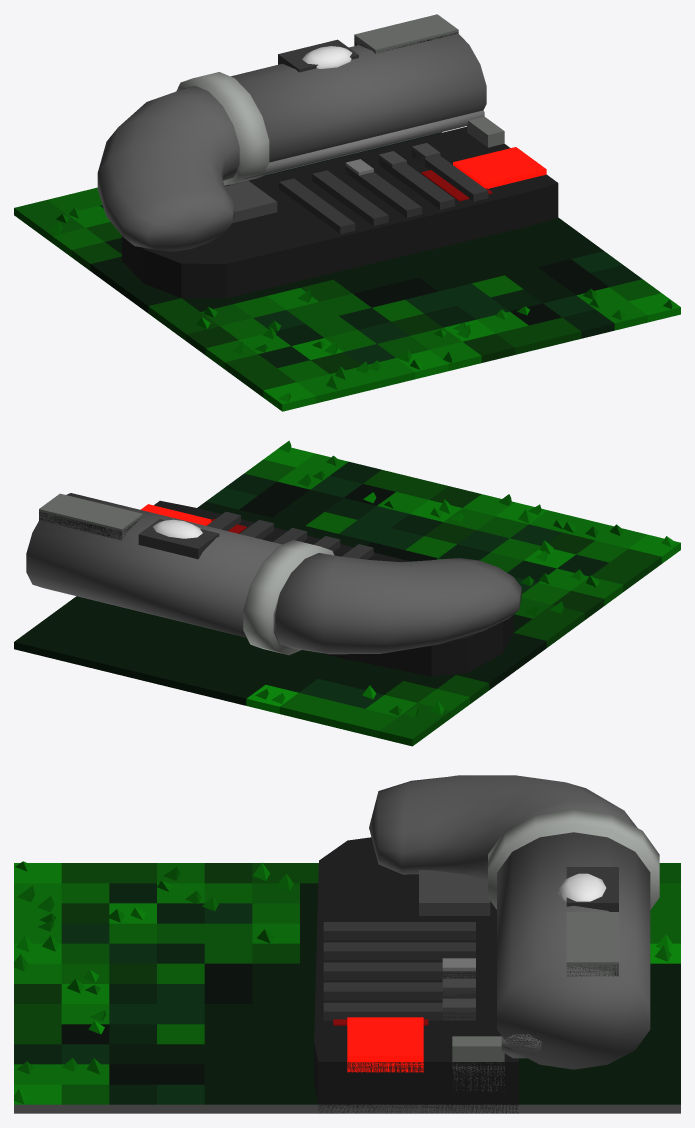
The model's file is newshg-229.glb.
3 renders of one model, top to bottom at view 1: azimuth 30°, elevation 25°; view 2: azimuth 150°, elevation 25°; view 3: azimuth 270°, elevation 25°, orthographic. The views are drawn at different scales.
Visible parts, largest first — view 1: newshg-229, newshg-229-hatch0, newshg-229-lights; view 2: newshg-229, newshg-229-hatch0, newshg-229-hatch1; view 3: newshg-229, newshg-229-hatch0, newshg-229-lights.
Part boxes in pixels (x1,y1,x2,y2): newshg-229: (14, 33, 680, 411); newshg-229-hatch0: (354, 14, 458, 53); newshg-229-lights: (345, 143, 440, 176); newshg-229: (14, 440, 680, 746); newshg-229-hatch0: (39, 493, 142, 540); newshg-229-hatch1: (39, 512, 142, 539); newshg-229: (14, 775, 680, 1113); newshg-229-hatch0: (566, 912, 618, 976); newshg-229-lights: (442, 958, 475, 1020).
Size of the model in its own units: 2 by 0.61 by 2.33.
